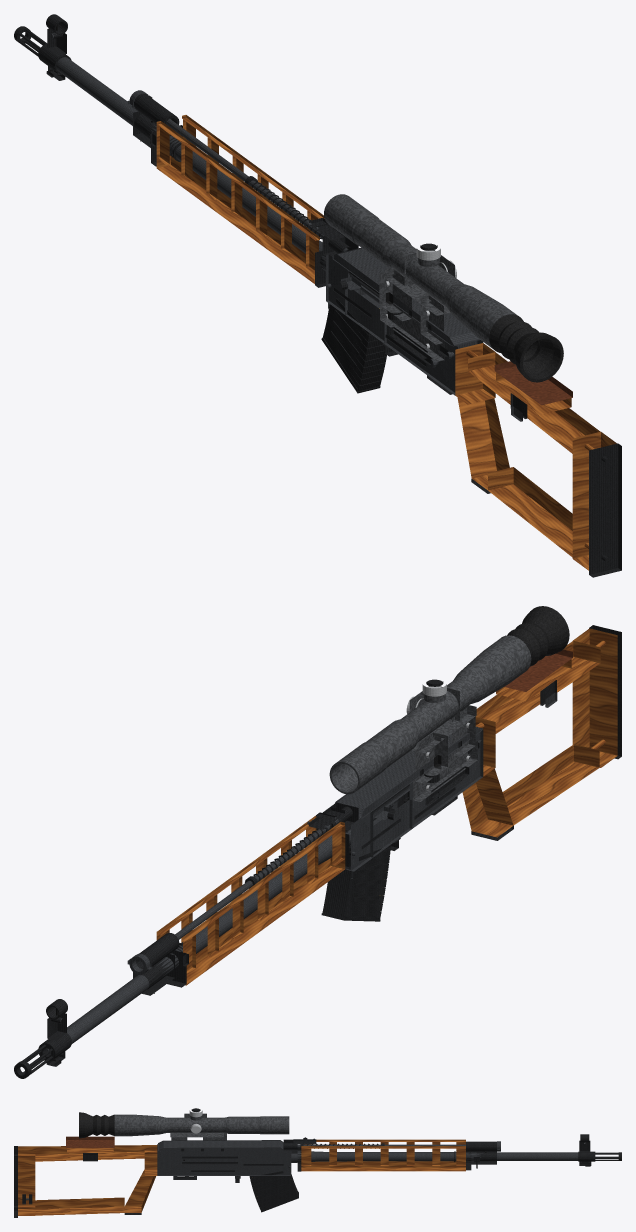
The model's file is svd-v6-ria.glb.
3 renders of one model, top to bottom at view 1: azimuth 30°, elevation 25°; view 2: azimuth 150°, elevation 25°; view 3: azimuth 270°, elevation 25°, orthographic. The views are drawn at different scales.
Parts seen in each view (by area): view 1: ext_pso1_main_tube, ext_buttplate_steel, ext_stock_lower_toe_strut, barrel, ext_pso1_rubber_eyecup, ext_stock_pistol_grip_pillar, ext_hg_lower_keel_right, ext_stock_upper_comb_beam, ext_stock_rear_butt_pillar, ext_dust_cover, ext_stock_front_collar, ext_cheekpiece_leather_pad (+10 smaller); view 2: ext_pso1_main_tube, ext_stock_rear_butt_pillar, barrel, ext_stock_lower_toe_strut, ext_hg_lower_keel_right, ext_stock_upper_comb_beam, ext_stock_pistol_grip_pillar, ext_pso1_rubber_eyecup, ext_dust_cover, ext_receiver_wall_right_rear, ext_hg_upper_crest_right, int_pusher_rod_body (+11 smaller); view 3: ext_pso1_main_tube, ext_receiver_wall_left, barrel, ext_stock_lower_toe_strut, ext_hg_lower_keel_left, ext_stock_rear_butt_pillar, ext_stock_upper_comb_beam, ext_dust_cover, ext_pso1_rubber_eyecup, ext_stock_pistol_grip_pillar, ext_dust_cover_skirt_left, ext_cheekpiece_leather_pad (+14 smaller).
Boxes of the visible parts, <box> form: ext_pso1_main_tube: <box>324,194,517,348</box>; ext_buttplate_steel: <box>589,443,621,577</box>; ext_stock_lower_toe_strut: <box>488,467,572,557</box>; barrel: <box>56,57,325,271</box>; ext_pso1_rubber_eyecup: <box>489,314,563,382</box>; ext_stock_pistol_grip_pillar: <box>457,398,509,490</box>; ext_hg_lower_keel_right: <box>156,155,314,283</box>; ext_stock_upper_comb_beam: <box>468,352,599,453</box>; ext_stock_rear_butt_pillar: <box>572,431,616,570</box>; ext_dust_cover: <box>337,247,479,345</box>; ext_stock_front_collar: <box>455,343,495,404</box>; ext_cheekpiece_leather_pad: <box>494,361,572,405</box>; ext_pso1_main_tube: <box>329,635,531,794</box>; ext_stock_rear_butt_pillar: <box>572,628,617,767</box>; barrel: <box>46,829,350,1053</box>; ext_stock_lower_toe_strut: <box>502,744,599,825</box>; ext_hg_lower_keel_right: <box>185,857,345,985</box>; ext_stock_upper_comb_beam: <box>475,640,600,733</box>; ext_stock_pistol_grip_pillar: <box>462,768,513,837</box>; ext_pso1_rubber_eyecup: <box>501,606,569,670</box>; ext_dust_cover: <box>336,726,476,815</box>; ext_receiver_wall_right_rear: <box>409,729,483,828</box>; ext_hg_upper_crest_right: <box>182,822,344,941</box>; int_pusher_rod_body: <box>175,819,338,939</box>; ext_pso1_main_tube: <box>114,1114,289,1136</box>; ext_receiver_wall_left: <box>157,1150,291,1175</box>; barrel: <box>291,1150,578,1162</box>; ext_stock_lower_toe_strut: <box>35,1197,124,1215</box>; ext_hg_lower_keel_left: <box>301,1162,465,1171</box>; ext_stock_rear_butt_pillar: <box>18,1146,35,1215</box>; ext_stock_upper_comb_beam: <box>35,1145,144,1161</box>; ext_dust_cover: <box>158,1140,283,1150</box>; ext_pso1_rubber_eyecup: <box>79,1112,114,1138</box>; ext_stock_pistol_grip_pillar: <box>124,1169,155,1212</box>; ext_dust_cover_skirt_left: <box>158,1147,283,1151</box>; ext_cheekpiece_leather_pad: <box>66,1136,114,1147</box>.
Bounding box in the file's own units: 0.0574 × 0.232 × 1.22.
Materials: 11 (11 with a texture image).
